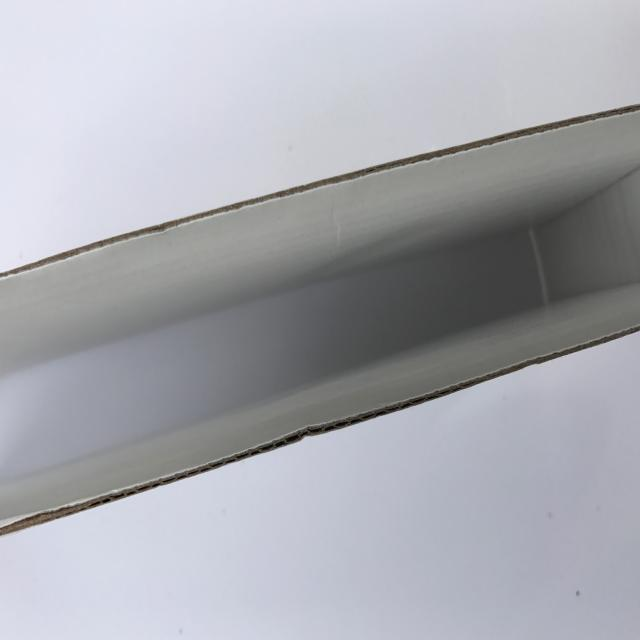cardboard: (0, 102, 640, 545)
